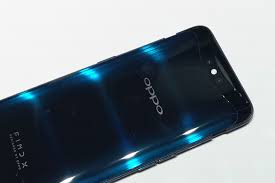oppo: (1, 21, 255, 183)
